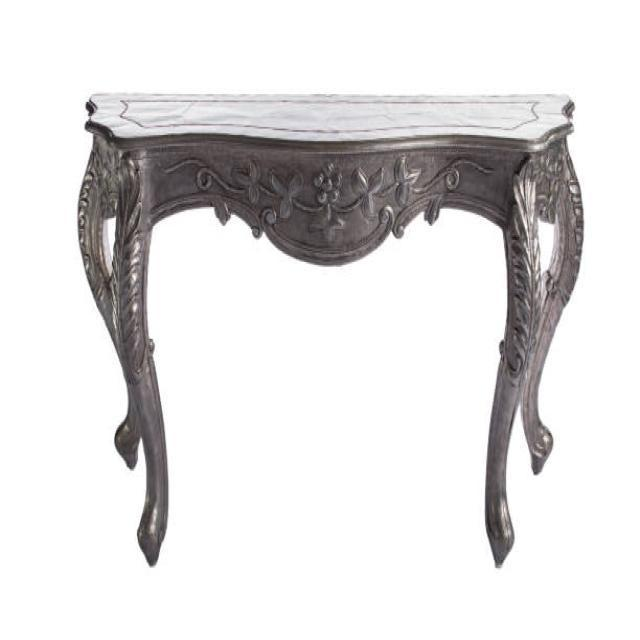table: (76, 89, 584, 568)
